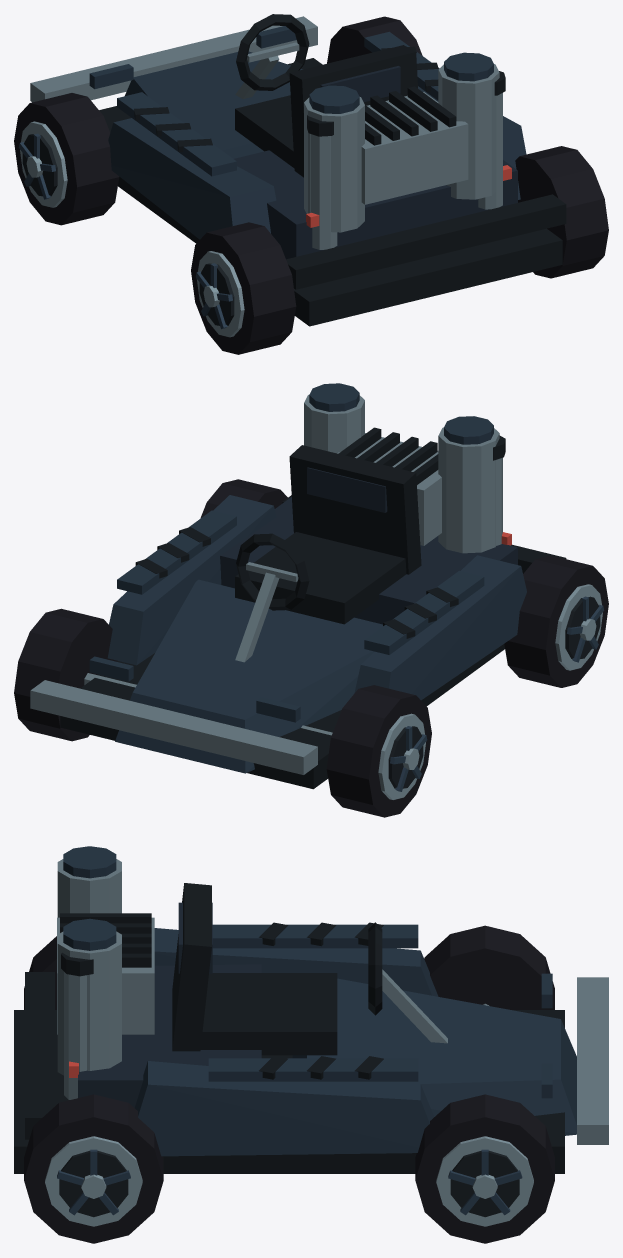
The model's file is kart.glb.
3 renders of one model, top to bottom at view 1: azimuth 30°, elevation 25°; view 2: azimuth 150°, elevation 25°; view 3: azimuth 270°, elevation 25°, orthographic. The views are drawn at different scales.
Visible parts, largest first — view 1: chassis, wheel-rear-left, wheel-front-left, wheel-rear-right, wheel-front-right; view 2: chassis, wheel-front-left, wheel-rear-left, wheel-front-right, wheel-rear-right; view 3: chassis, wheel-front-right, wheel-rear-right, wheel-front-left, wheel-rear-left.
Boxes of the visible parts, x1=… form: chassis: x1=30, y1=14, x2=566, y2=326; wheel-rear-left: x1=191, y1=222, x2=296, y2=354; wheel-front-left: x1=14, y1=93, x2=119, y2=225; wheel-rear-right: x1=515, y1=146, x2=608, y2=278; wheel-front-right: x1=327, y1=16, x2=422, y2=63; chassis: x1=30, y1=383, x2=566, y2=789; wheel-front-left: x1=326, y1=685, x2=431, y2=817; wheel-rear-left: x1=504, y1=555, x2=608, y2=687; wheel-front-right: x1=14, y1=608, x2=117, y2=741; wheel-rear-right: x1=200, y1=479, x2=287, y2=518; chassis: x1=14, y1=846, x2=608, y2=1173; wheel-front-right: x1=415, y1=1094, x2=554, y2=1243; wheel-rear-right: x1=24, y1=1094, x2=163, y2=1243; wheel-front-left: x1=424, y1=925, x2=554, y2=1009; wheel-rear-left: x1=24, y1=936, x2=56, y2=1009.
Size of the model in its own units: 2.44 by 1.4 by 2.98.
